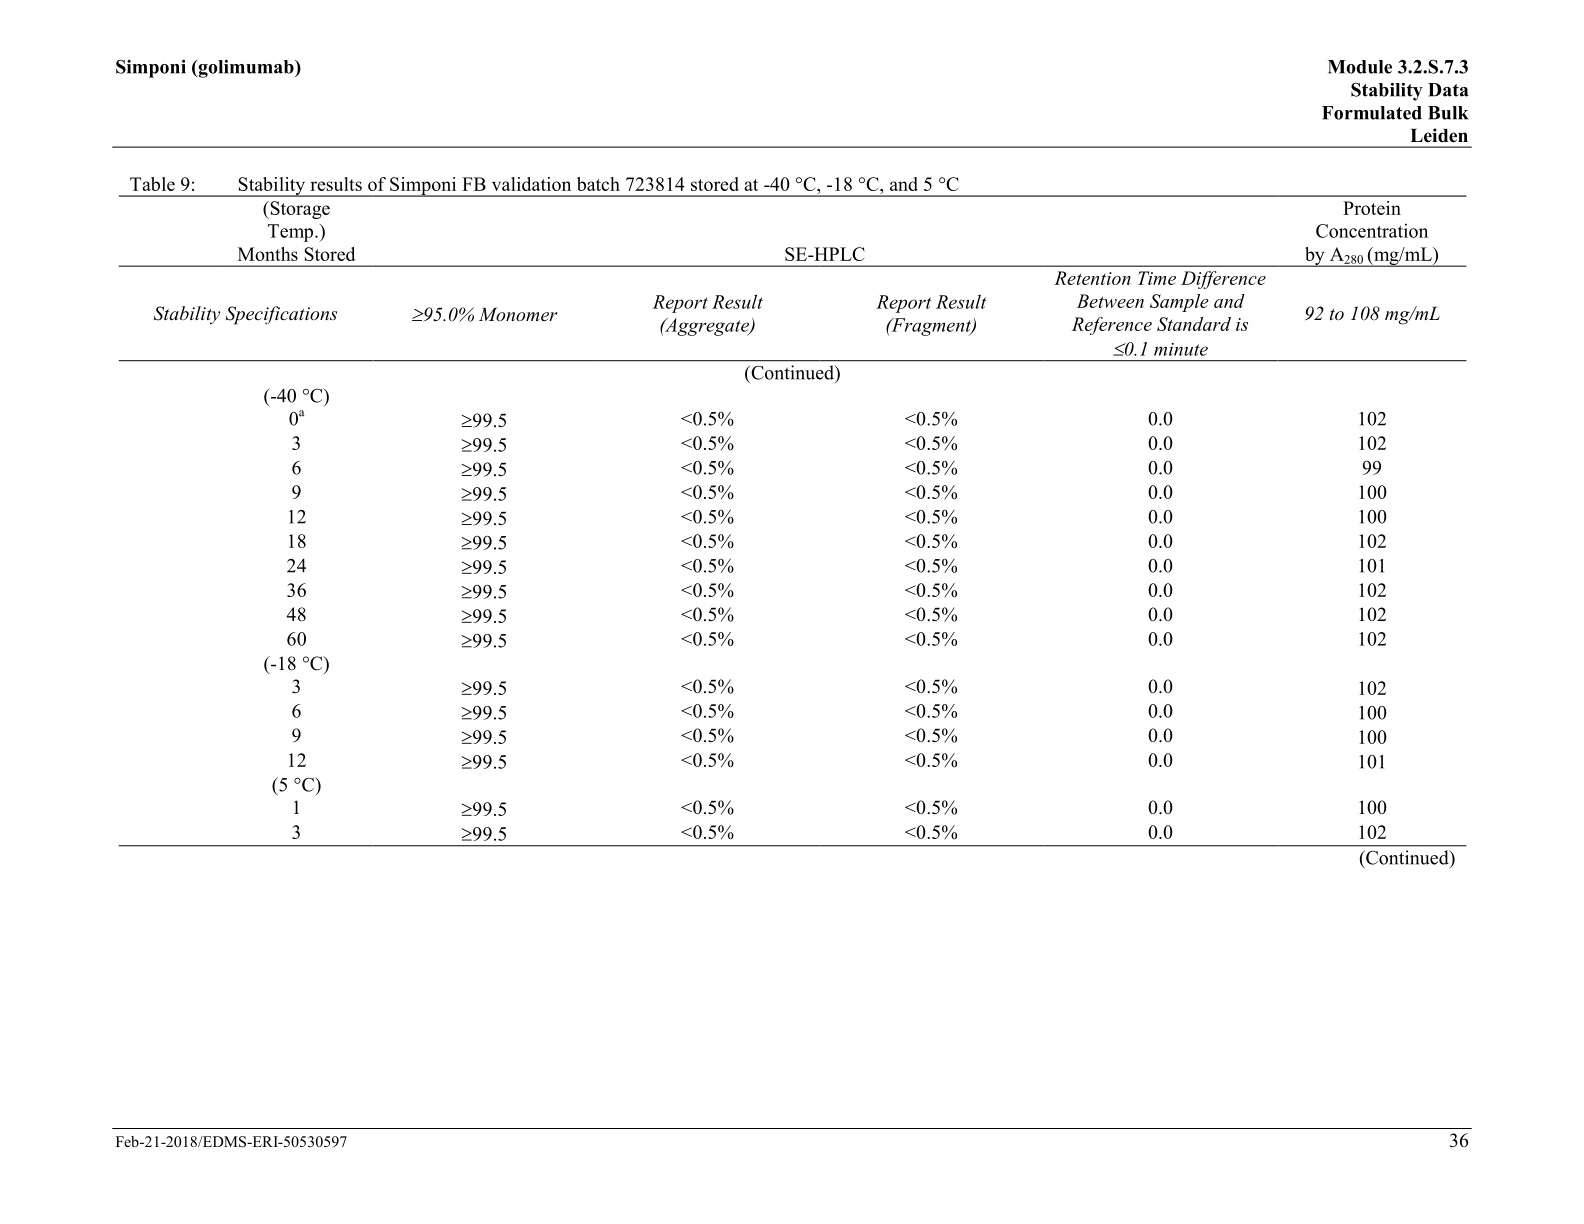partial_lined_merged_cells: (117, 194, 1471, 847)
